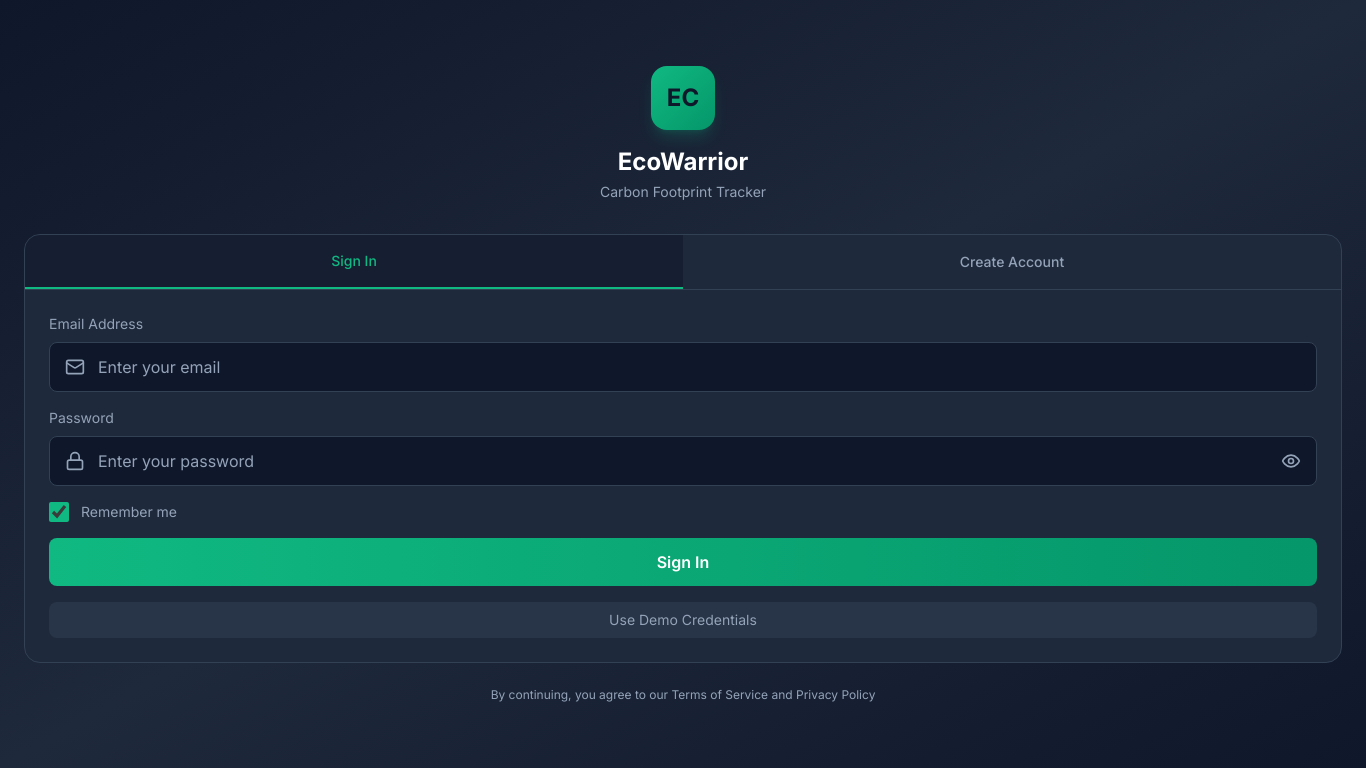
AuthPortal – Sign Up mode › shows username field in sign-up mode
Click the tab "Create Account": x=1012, y=262 [683, 234, 1341, 288]
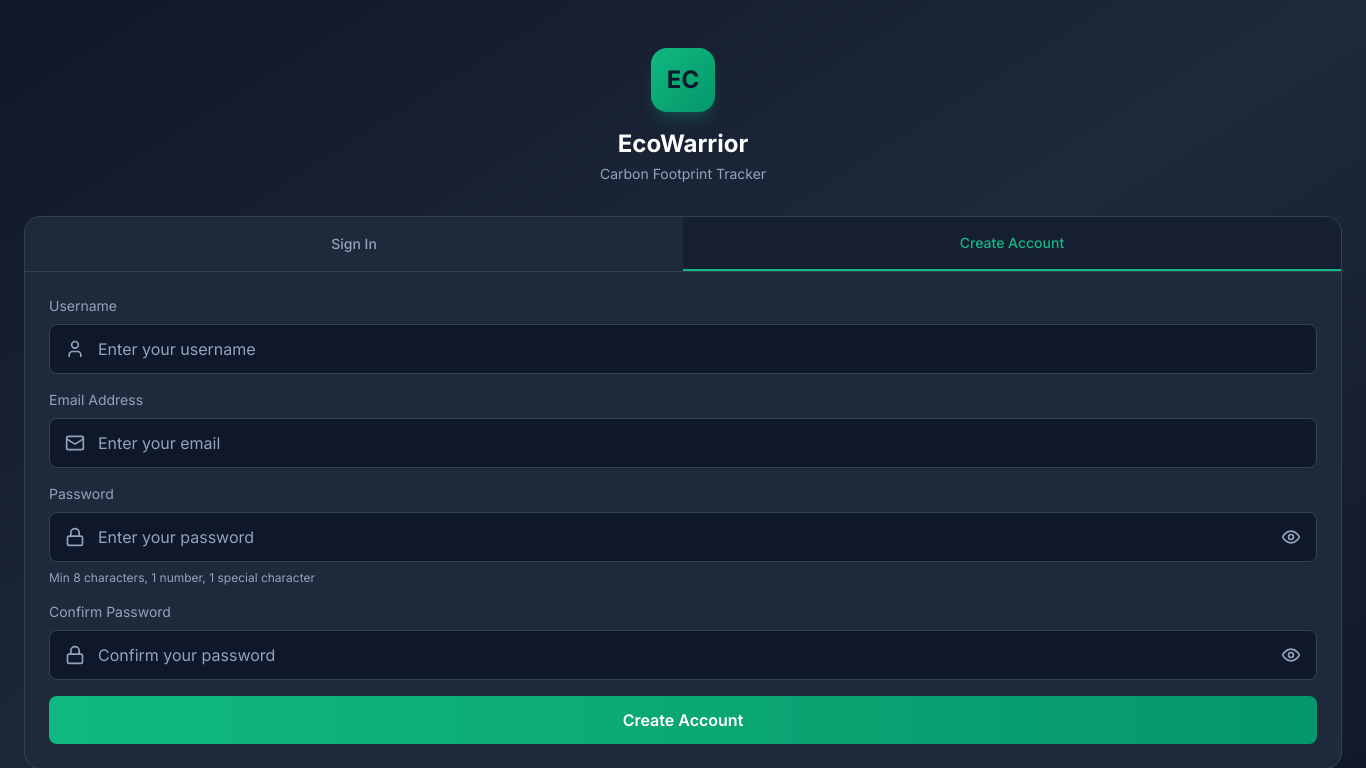
Check: the field labelled "Username" is shown, box [49, 324, 1317, 374]
